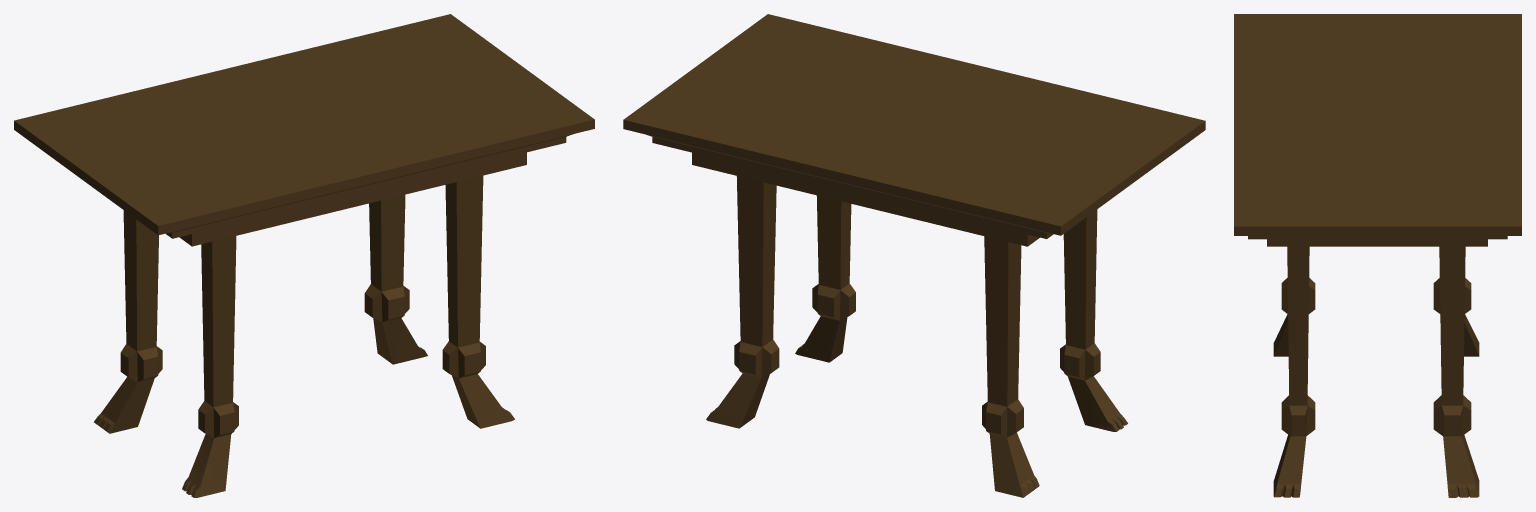
Rendered from side table.fbx.
3 renders of one model, left to right at view 1: azimuth 30°, elevation 25°; view 2: azimuth 150°, elevation 25°; view 3: azimuth 270°, elevation 25°, orthographic.
Parts seen in each view (by area): view 1: Cube; view 2: Cube; view 3: Cube.
Boxes of the visible parts, x1=… form: Cube: x1=14, y1=14, x2=594, y2=497; Cube: x1=623, y1=14, x2=1205, y2=497; Cube: x1=1234, y1=14, x2=1521, y2=497.
Bounding box in the file's own units: 456 × 300 × 261.
